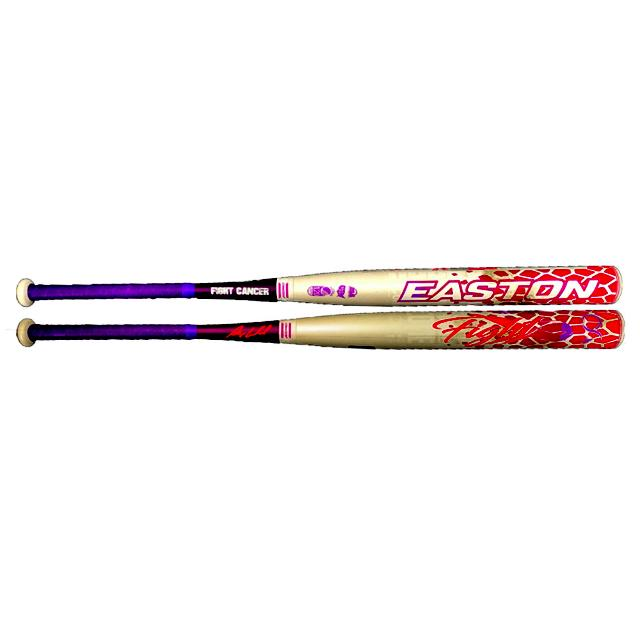baseball bat: (14, 270, 626, 306), (14, 320, 626, 350)
